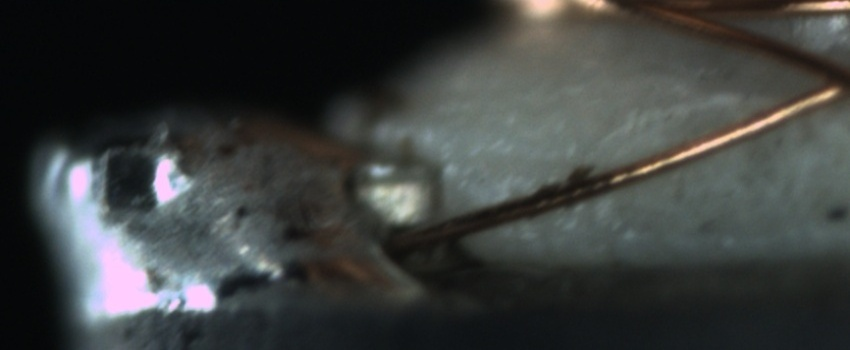CL: (794, 45, 850, 106)
